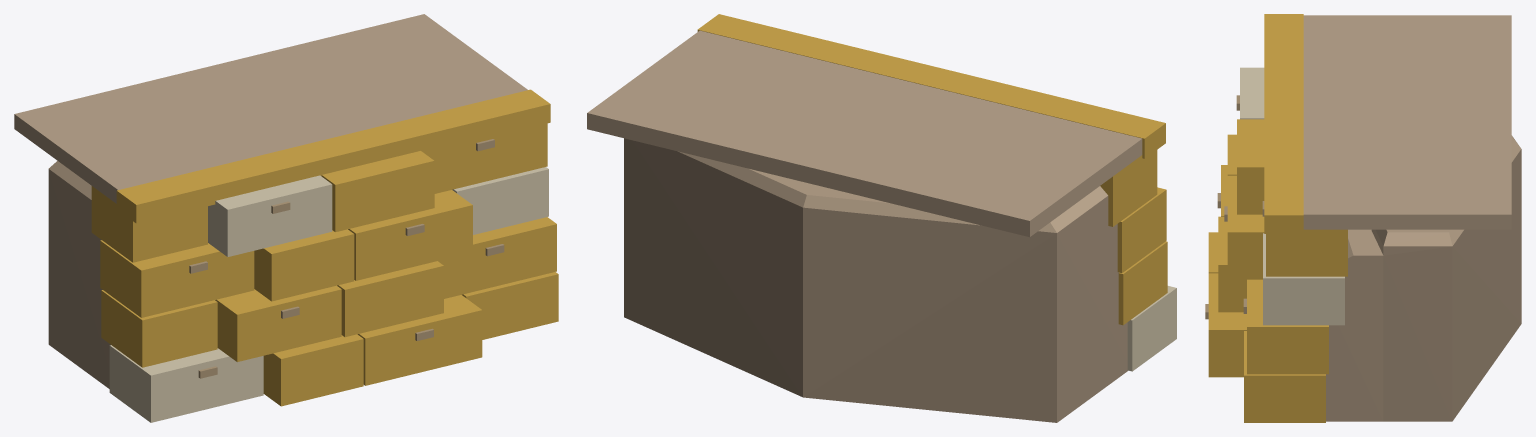
Rendered from terrace-corner-butter.glb.
3 views of the same model, side by side, from view 1: azimuth 30°, elevation 25°; view 2: azimuth 150°, elevation 25°; view 3: azimuth 270°, elevation 25° (orthographic). The views are drawn at different scales.
Parts seen in each view (by area): view 1: terrace-corner-butter; view 2: terrace-corner-butter; view 3: terrace-corner-butter.
Boxes of the visible parts, bbox=[...] form: terrace-corner-butter: bbox=[14, 14, 558, 422]; terrace-corner-butter: bbox=[587, 14, 1176, 422]; terrace-corner-butter: bbox=[1205, 14, 1521, 422].
Size of the model in its own units: 6.04 by 2.93 by 4.01.
